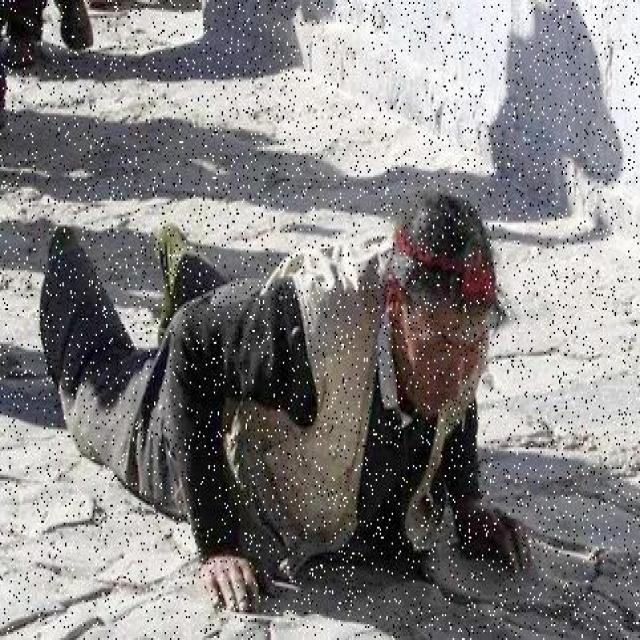fall: (41, 186, 539, 578)
